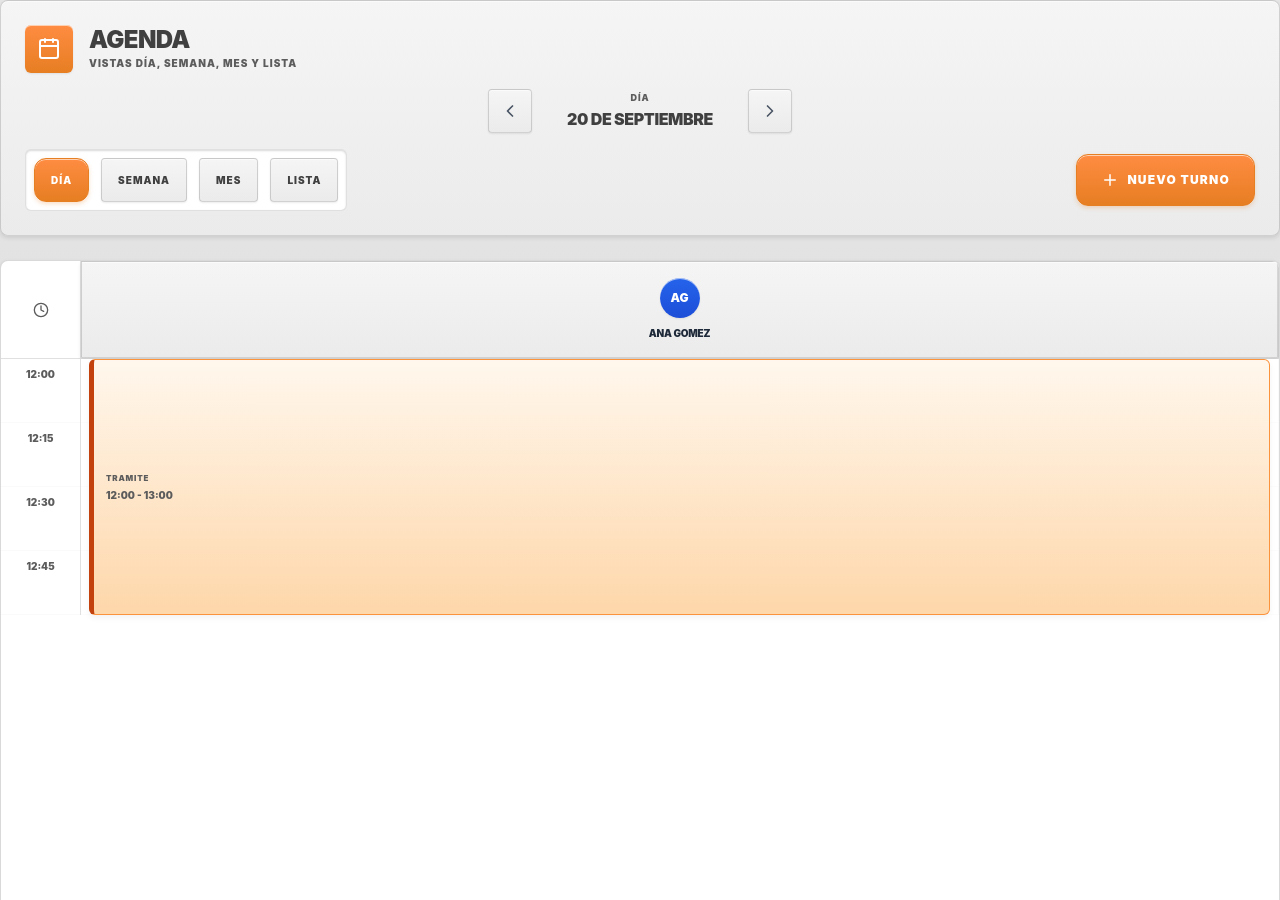
it: CalendarContainer - formulario de bloqueo (F11c-05) › un bloqueo nuevo sigue al dia que muestra el calendario
Click the button with class "lucide-chevron-right". click: coordinates (770, 111)
box: [748, 89, 792, 133]
(page scrolled)
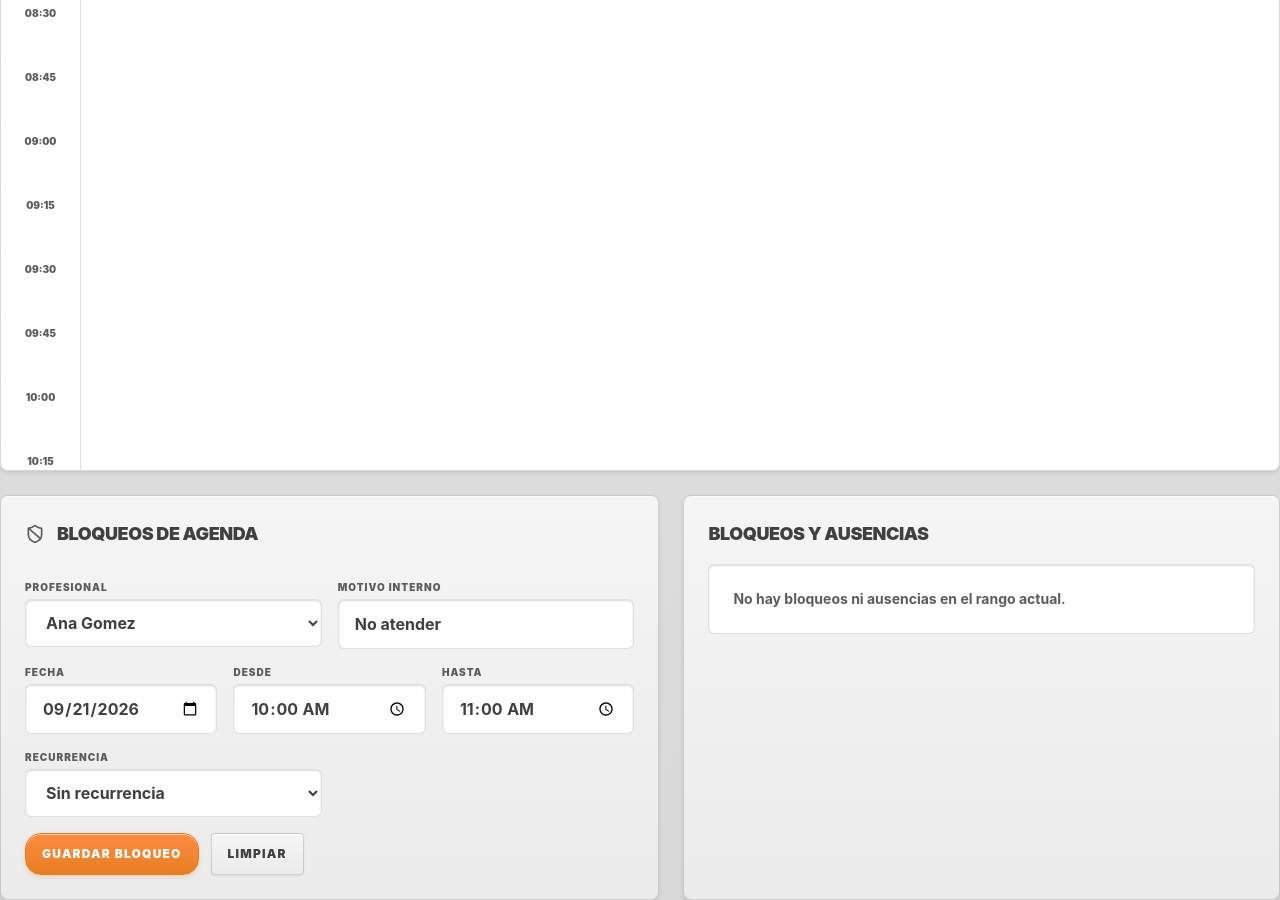
Now the date field labelled "Fecha" holds "2026-09-21", box [25, 684, 218, 734]
